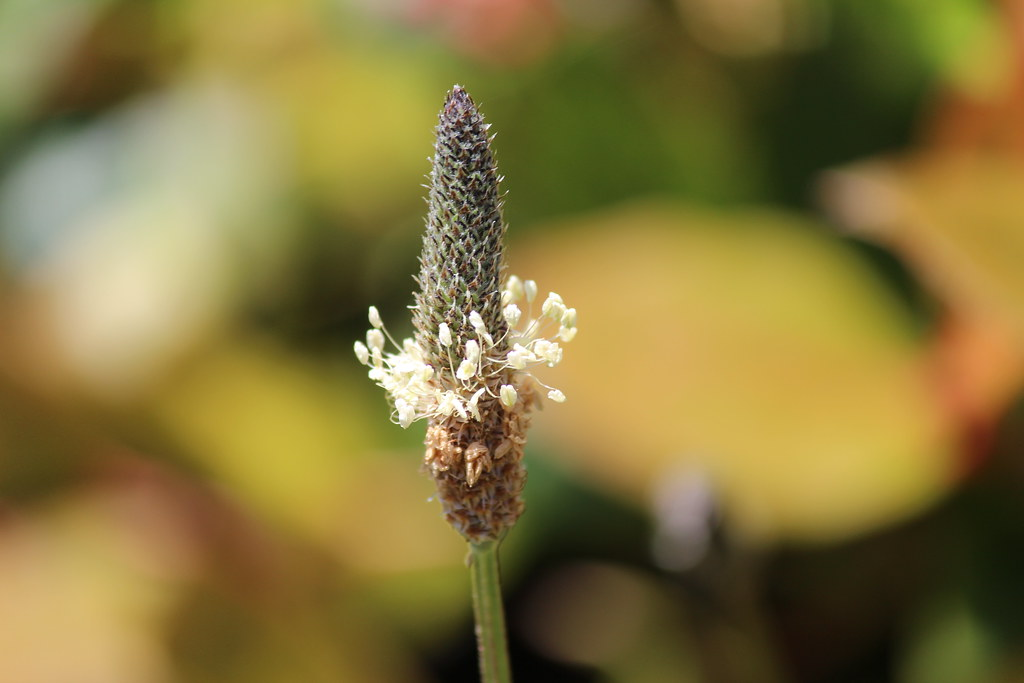buckhorn plantain: (332, 78, 581, 641)
